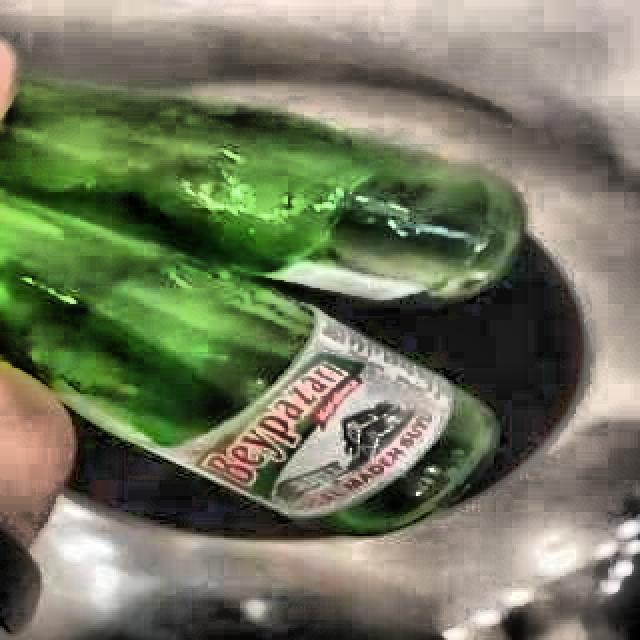glass: (0, 80, 523, 535)
